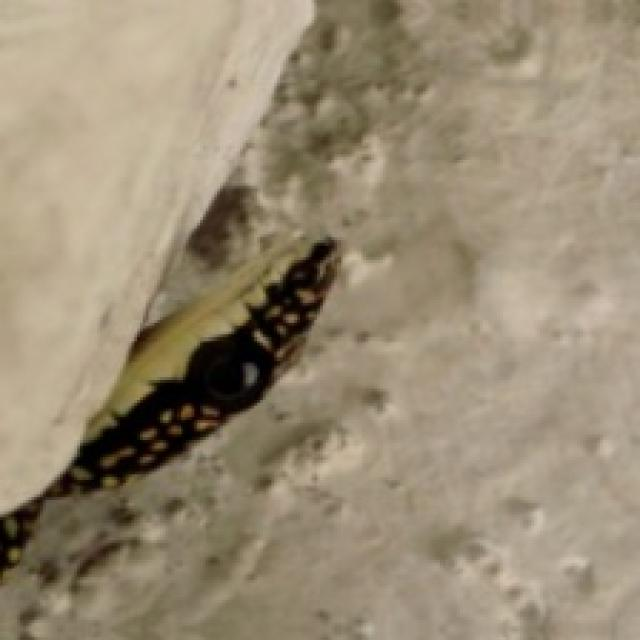paradise tree snake: (0, 234, 337, 571), (0, 237, 337, 571)
